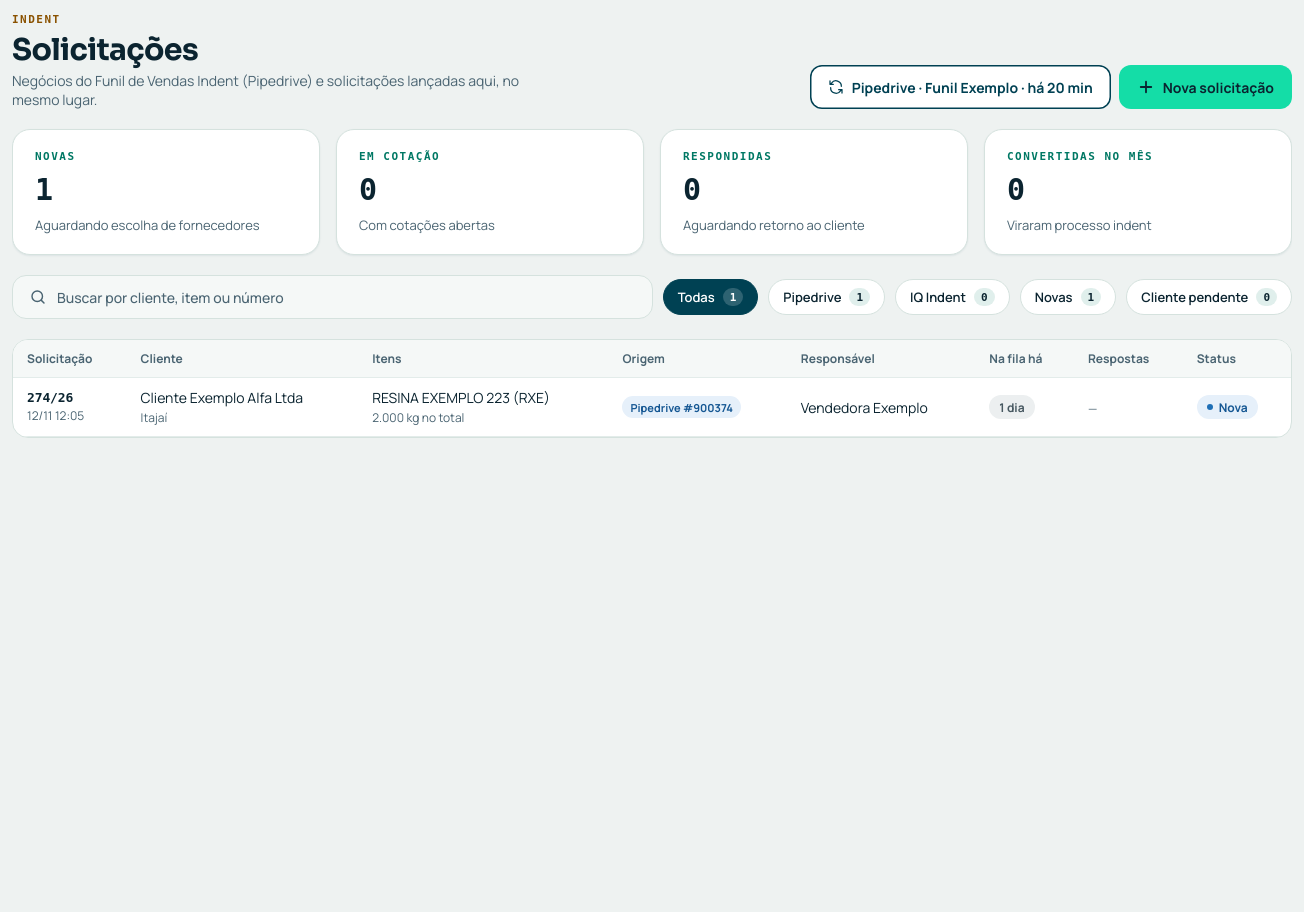
Test: sincronizar pela lista › timeout do Hosting (sem resposta do backend): reconsulta o estado; sincronizacao nova vira toast, sem mudanca vira aviso informativo
What coordinates should you click on to do the following:
click the button "Pipedrive · Funil Exemplo · há 20 min"
I would click on:
 (960, 87)
Its box is 810,65 -> 1111,109.
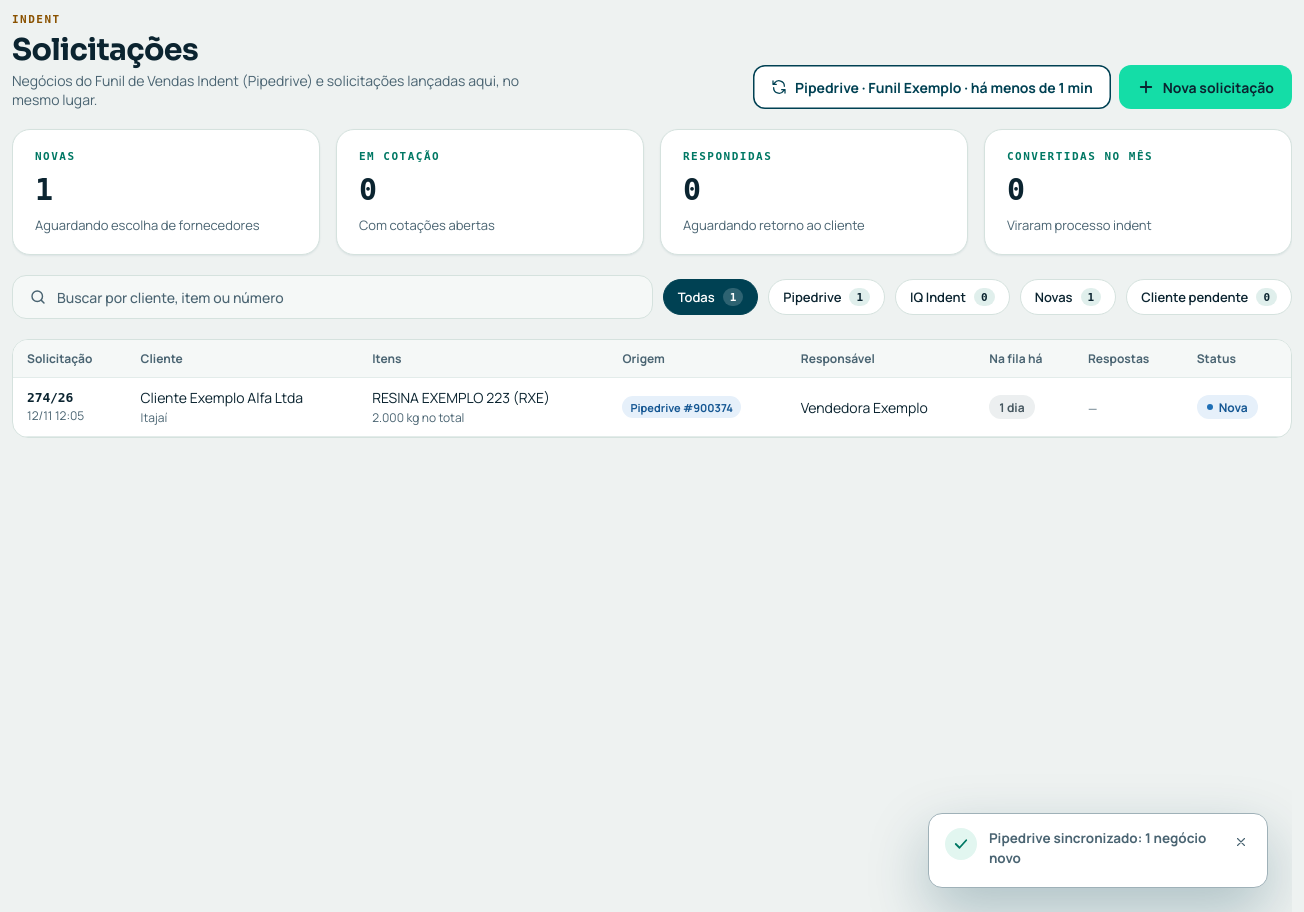
Result: the text "Pipedrive sincronizado: 1 negócio novo" is shown at 989,828 -> 1215,868
// nada mudou: o usuario e avisado de que a sincronizacao pode ainda estar em andamento
What coordinates should you click on to do the following:
click the button "Pipedrive · Funil Exemplo · há menos de 1 min"
I would click on:
 (932, 87)
Its box is 753,65 -> 1111,109.
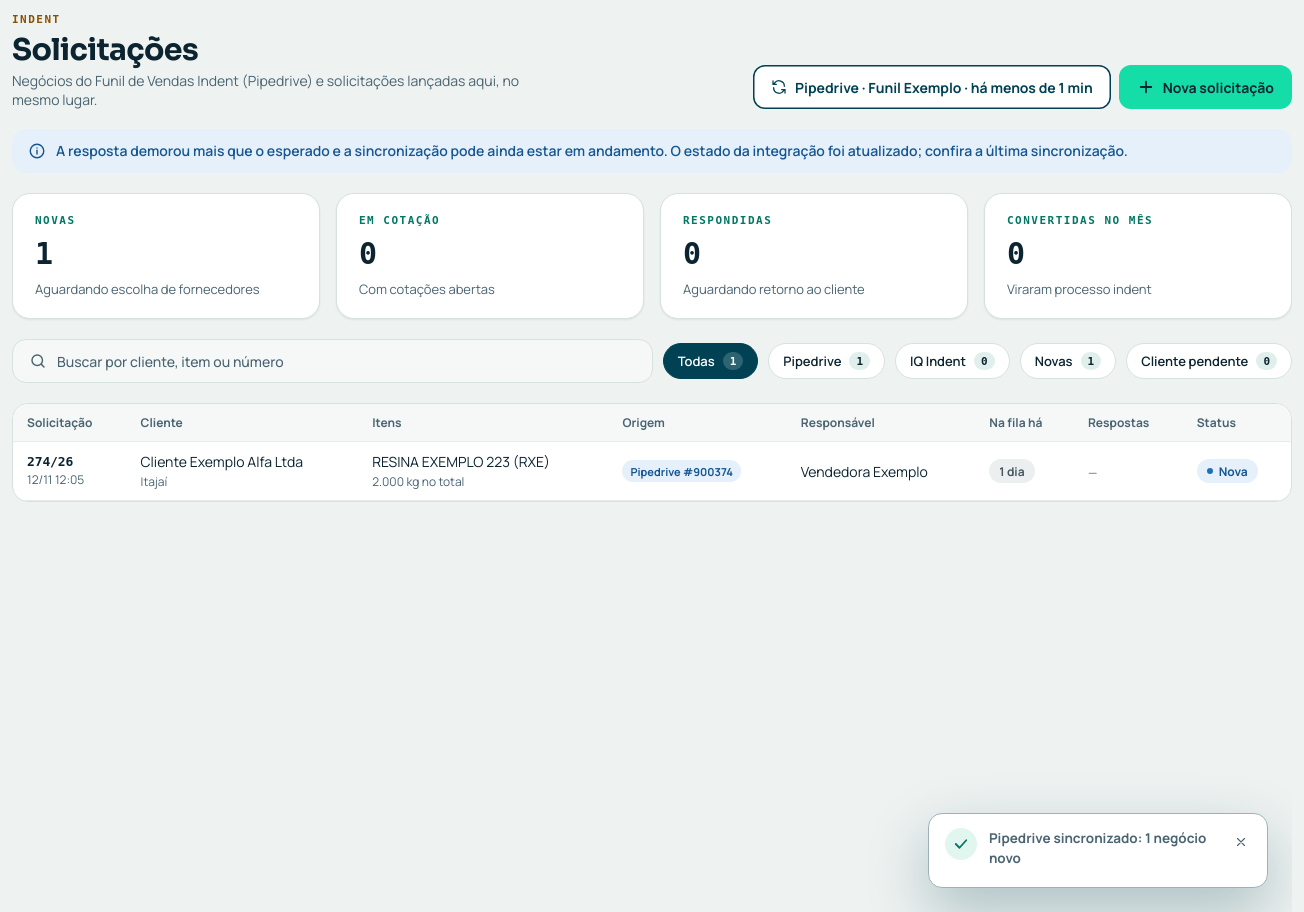
Result: the text "pode ainda estar em andamento" is shown at 56,141 -> 1128,160
